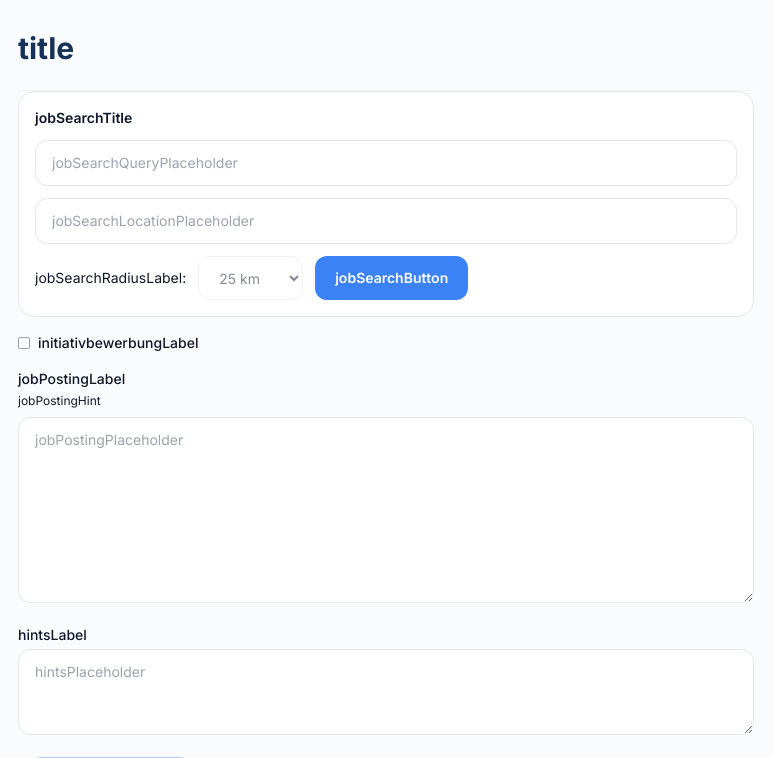
Test case: PDF-Download-Buttons › zeigt 'Anschreiben als PDF'-Button nach Generierung
Type "Stelle" into the text box labelled "jobPostingLabel" at (386, 510), box [18,417,754,603]
(page scrolled)
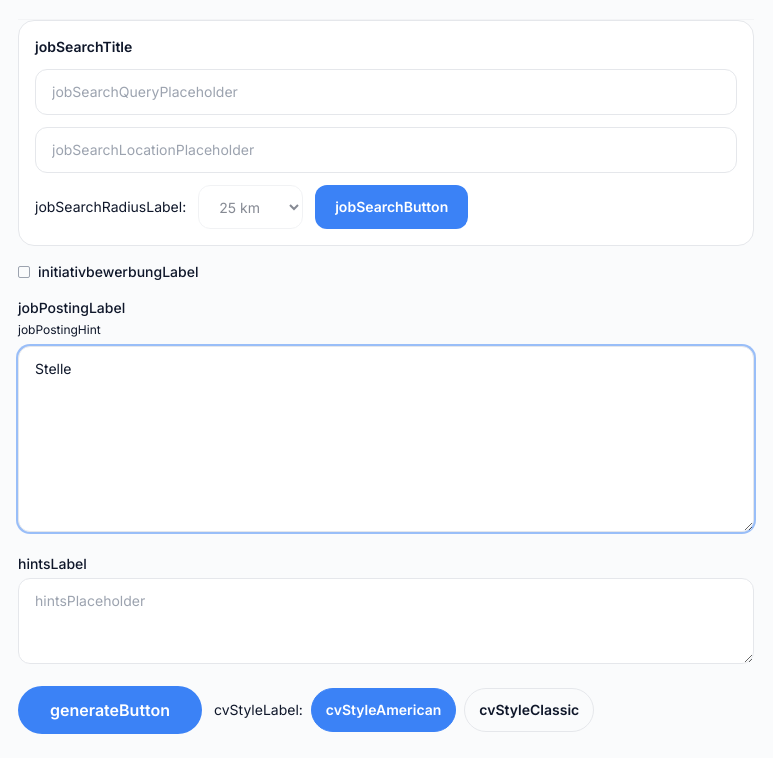
Click the button "generateButton" at (110, 710), box [18,686,202,734]
(page scrolled)
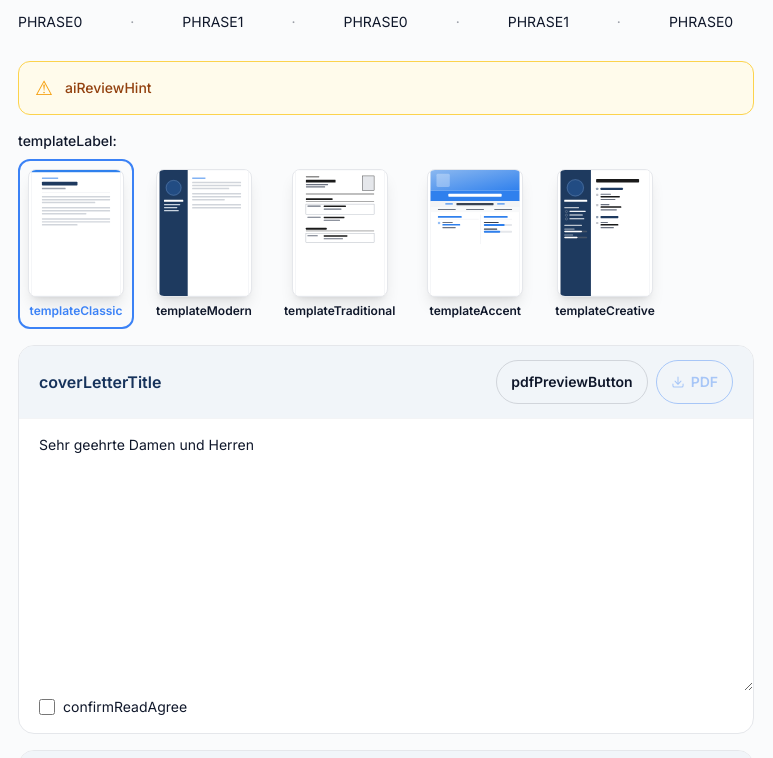
Now the text box showing "Sehr geehrte Damen und Herren" is shown, box [19,419,753,691]
Now the button with aria-label "coverLetterPdfButton" is shown, box [656,360,733,404]
